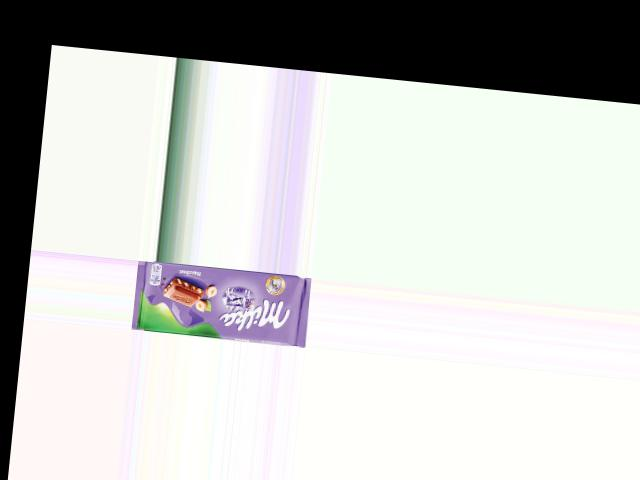chocolate: (130, 258, 312, 347)
